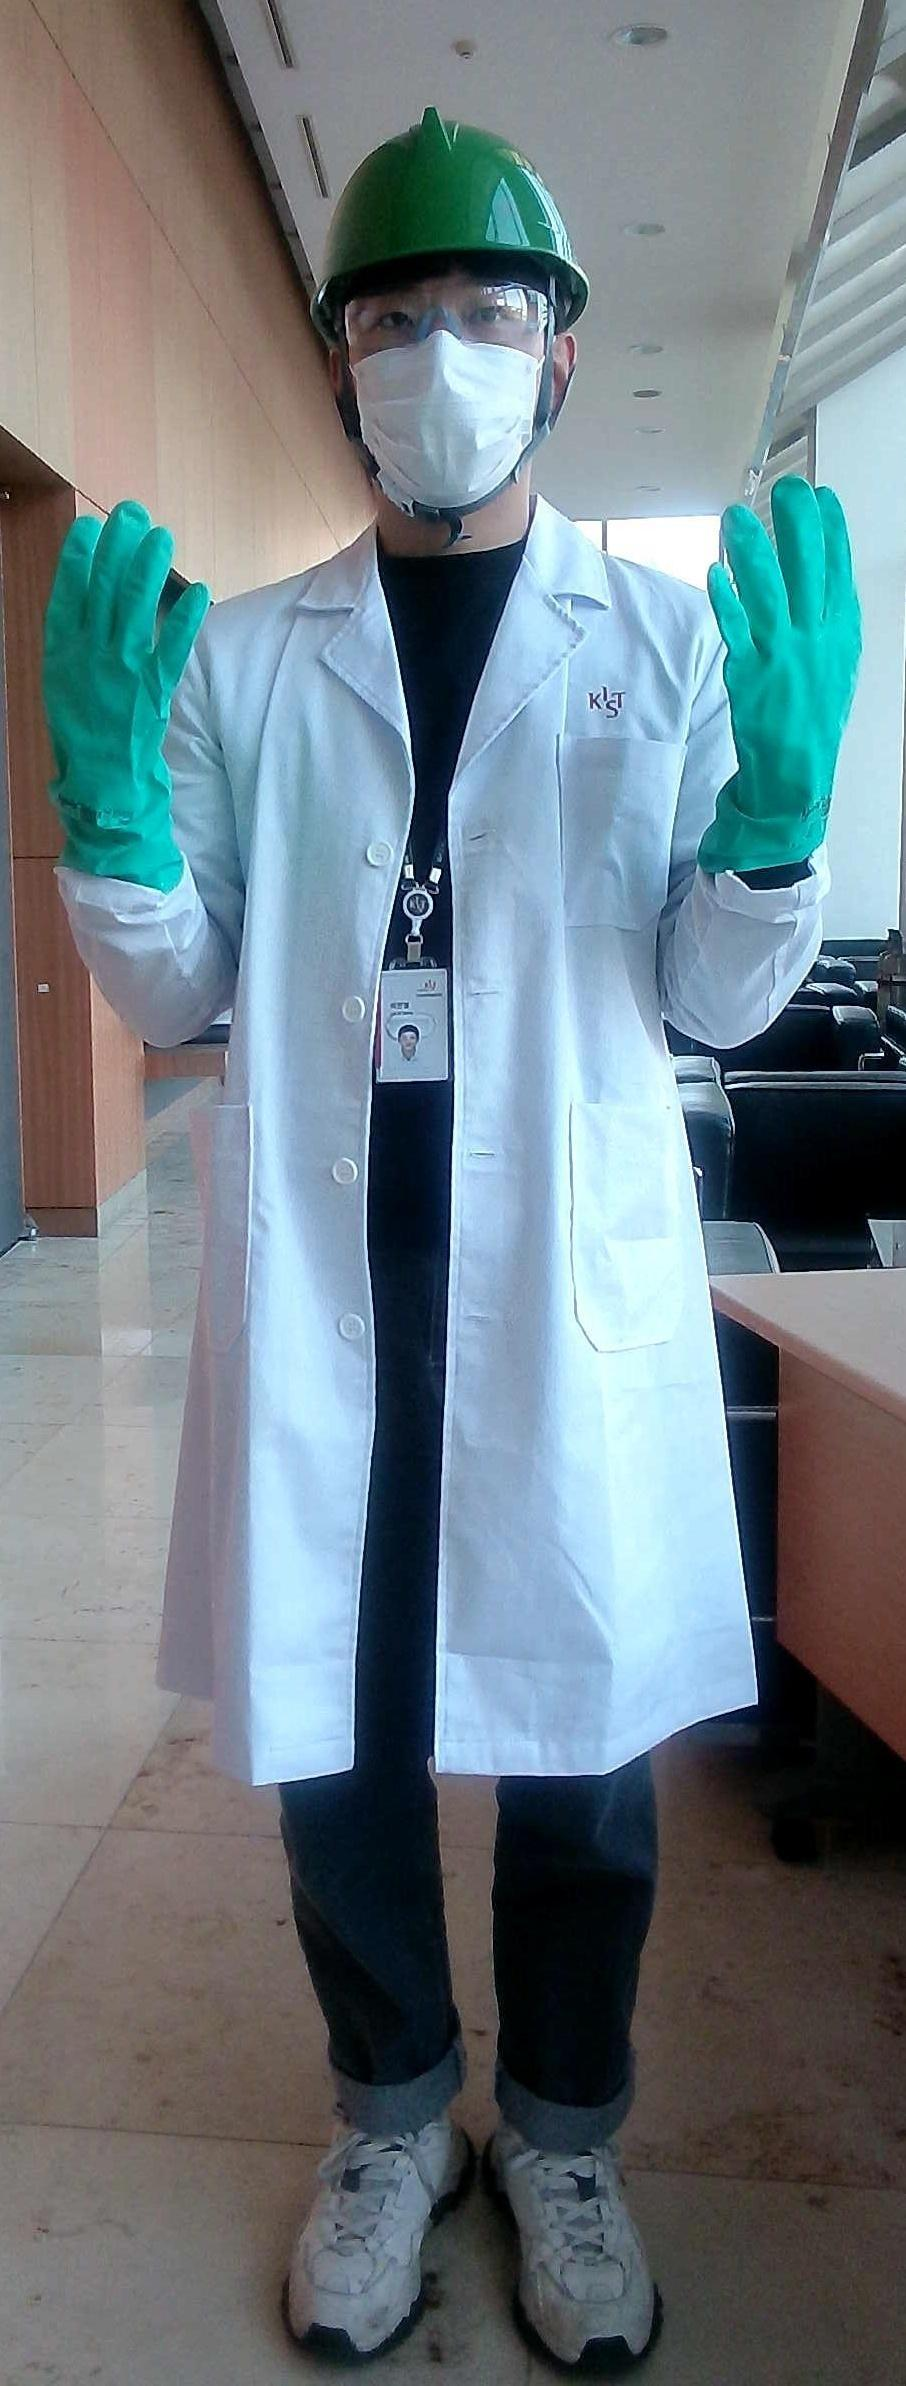lab_coat: (206, 590, 710, 1744)
